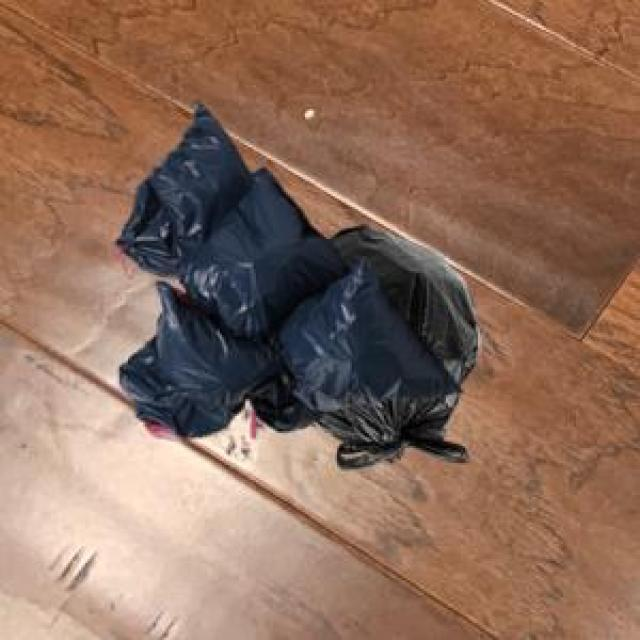waste: (118, 105, 478, 468)
